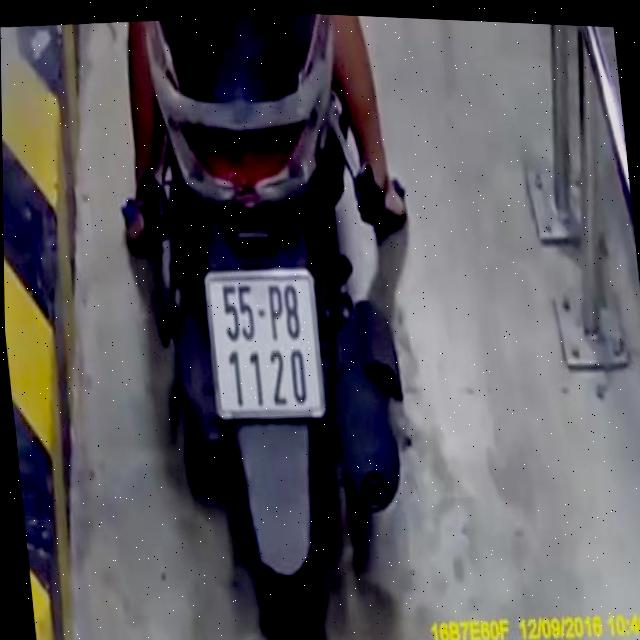motorcycle: (123, 5, 439, 640)
plate: (196, 260, 332, 429)
